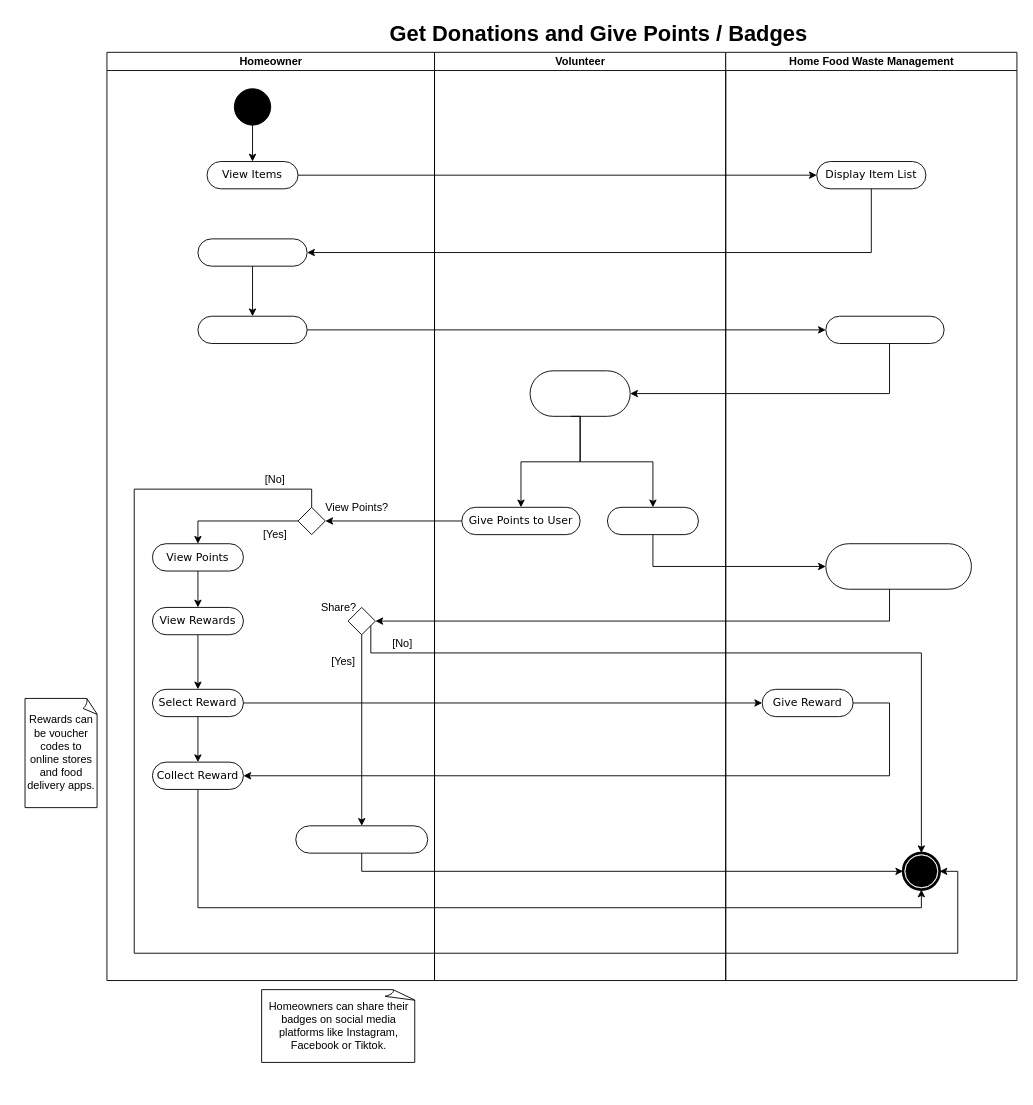
This 1033x1105 diagram has some shape labels left out. Here are the shapes that lost their labels. From the top down, the centre of each, then its label:
the point at 252,252: Select Food Item
the point at 252,329: Confirm Donation
the point at 884,329: Receive Donation
the point at 579,393: Evaluate Points Deserved
the point at 652,520: Give Badge
the point at 898,566: Display Option to Share on Socail Media
the point at 361,839: Post on Social Media
